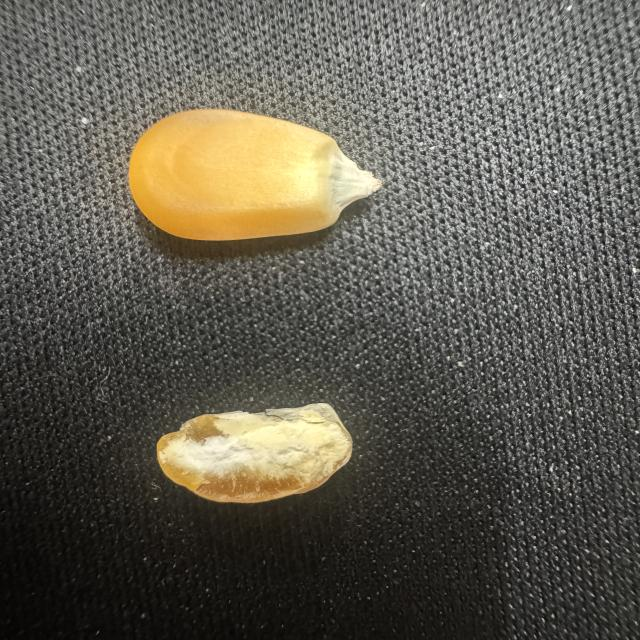Bad-Seed: (148, 389, 366, 513)
Good-Seed: (117, 104, 394, 255)
